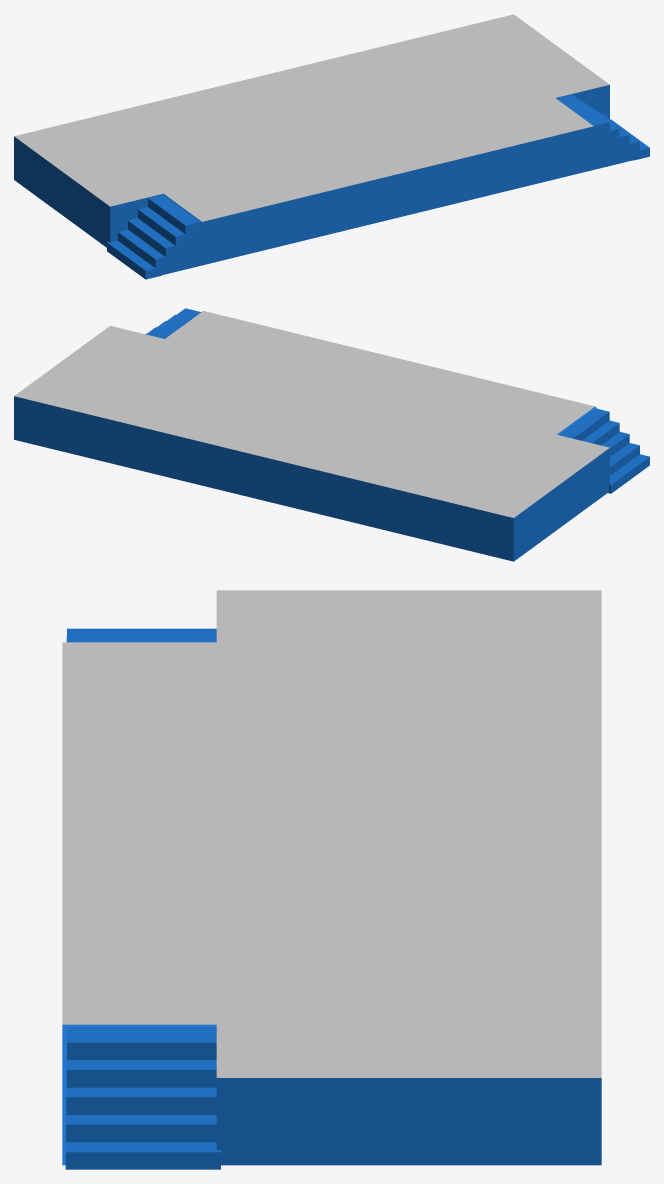
Rendered from kyodan.fbx.
3 views of the same model, one above another, from view 1: azimuth 30°, elevation 25°; view 2: azimuth 150°, elevation 25°; view 3: azimuth 270°, elevation 25° (orthographic). The views are drawn at different scales.
Visible parts, largest first — view 1: Object, Object004, Cube_50, Object002; view 2: Object, Object004, Cube_50, Object002; view 3: Object, Object004, Cube_50, Object002.
Part boxes in pixels (x1,y1,x2,y2): Object: [14, 14, 609, 221]; Object004: [14, 87, 647, 278]; Cube_50: [107, 95, 649, 279]; Object002: [14, 85, 609, 225]; Object: [14, 311, 609, 517]; Object004: [14, 399, 609, 561]; Cube_50: [145, 308, 649, 493]; Object002: [14, 311, 609, 520]; Object: [62, 590, 601, 1077]; Object004: [216, 1084, 601, 1165]; Cube_50: [62, 628, 220, 1169]; Object002: [62, 1024, 601, 1083].
Size of the model in its own units: 908 by 77.05 by 420.
